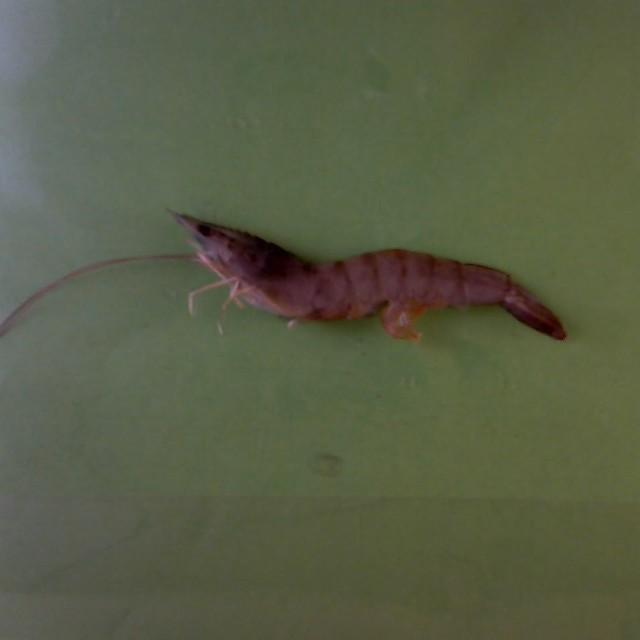shrimp: (171, 212, 567, 340)
